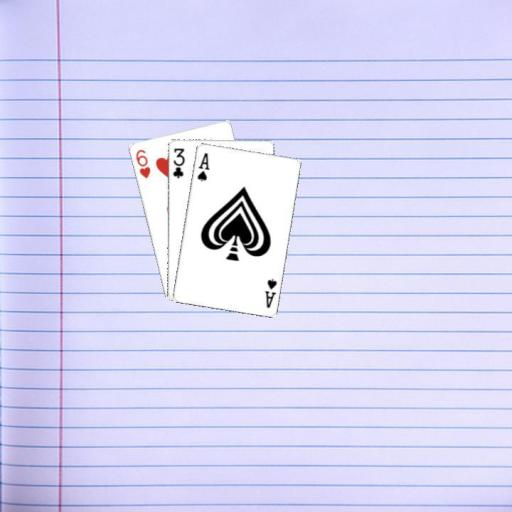3C: (169, 145, 186, 179)
6H: (133, 146, 152, 180)
AS: (194, 149, 211, 183), (262, 276, 278, 310)
